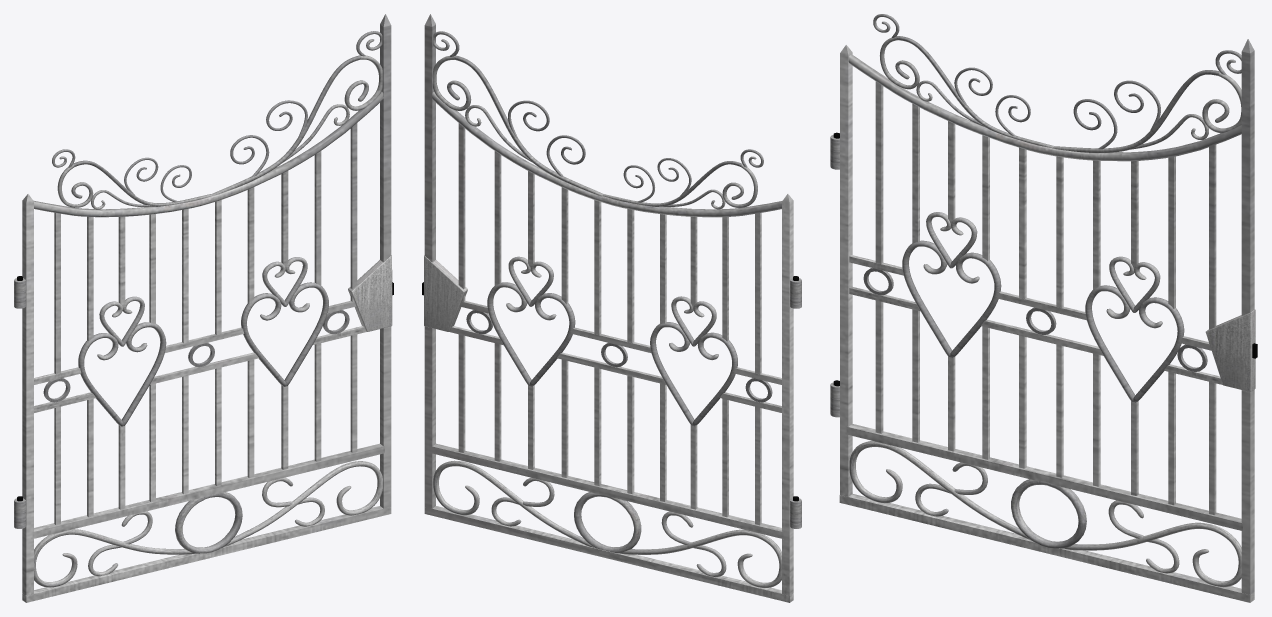
The model's file is PuertaIzq.obj.
3 views of the same model, side by side, from view 1: azimuth 30°, elevation 25°; view 2: azimuth 150°, elevation 25°; view 3: azimuth 330°, elevation 25° (orthographic). The views are drawn at different scales.
Parts seen in each view (by area): view 1: PuertaIzq:Ancient_Gate_Modelgate_maingate_right; view 2: PuertaIzq:Ancient_Gate_Modelgate_maingate_right; view 3: PuertaIzq:Ancient_Gate_Modelgate_maingate_right.
Boxes of the visible parts, x1,y1,x2,y2 form: PuertaIzq:Ancient_Gate_Modelgate_maingate_right: (14, 14, 393, 602); PuertaIzq:Ancient_Gate_Modelgate_maingate_right: (422, 14, 801, 602); PuertaIzq:Ancient_Gate_Modelgate_maingate_right: (830, 14, 1257, 602).
Bounding box in the file's own units: 3.08 × 3.88 × 0.077.
2 materials, 1 textured.
